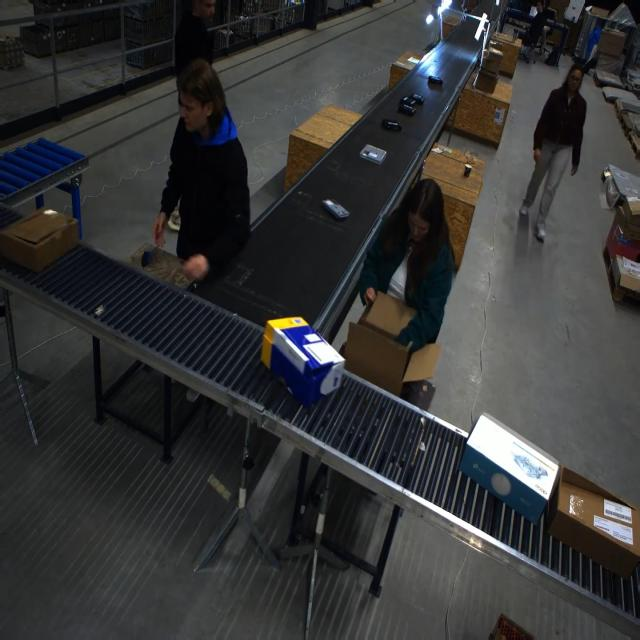box: (544, 468, 640, 580), (456, 412, 558, 515), (348, 293, 439, 395), (263, 316, 343, 404), (0, 209, 77, 273)
product: (314, 192, 358, 239), (359, 145, 385, 165), (381, 119, 400, 132), (398, 103, 416, 116), (400, 96, 416, 108), (427, 75, 443, 85), (410, 94, 424, 105)
